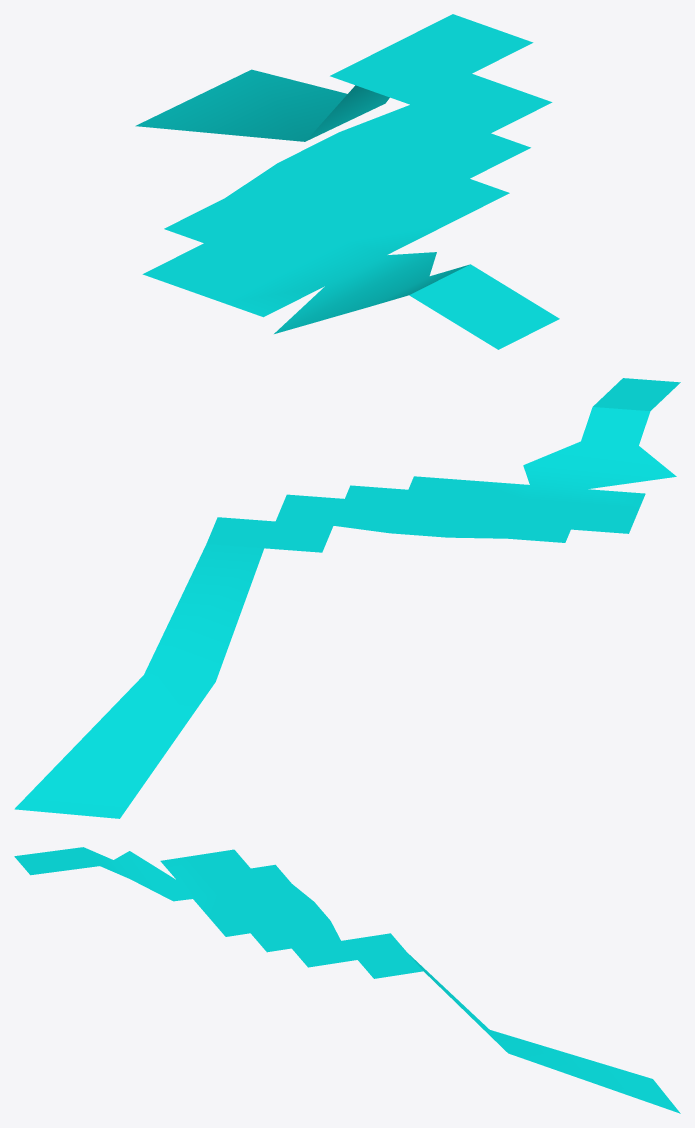
The model's file is water_2.fbx.
The picture shows the model from 3 angles, top to bottom: view 1: azimuth 30°, elevation 25°; view 2: azimuth 150°, elevation 25°; view 3: azimuth 270°, elevation 25°; orthographic projection. The views are drawn at different scales.
Visible parts, largest first — view 1: pPlane2; view 2: pPlane2; view 3: pPlane2.
Boxes of the visible parts, x1,y1,x2,y2 form: pPlane2: [135, 14, 559, 349]; pPlane2: [14, 378, 680, 818]; pPlane2: [14, 847, 680, 1113].
Size of the model in its own units: 334 by 184 by 695.
